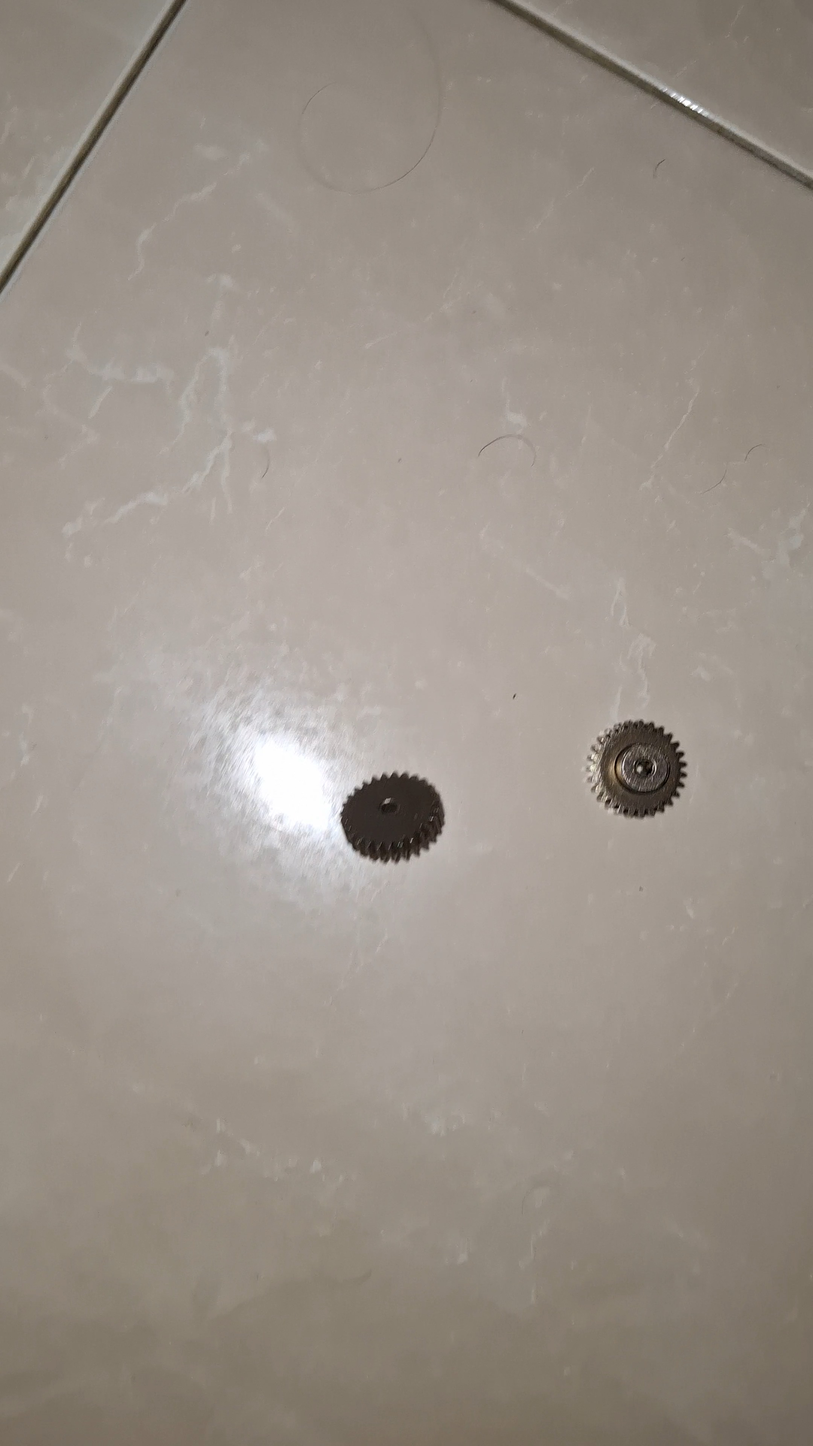spur gear: (588, 721, 683, 816), (342, 774, 443, 861)
